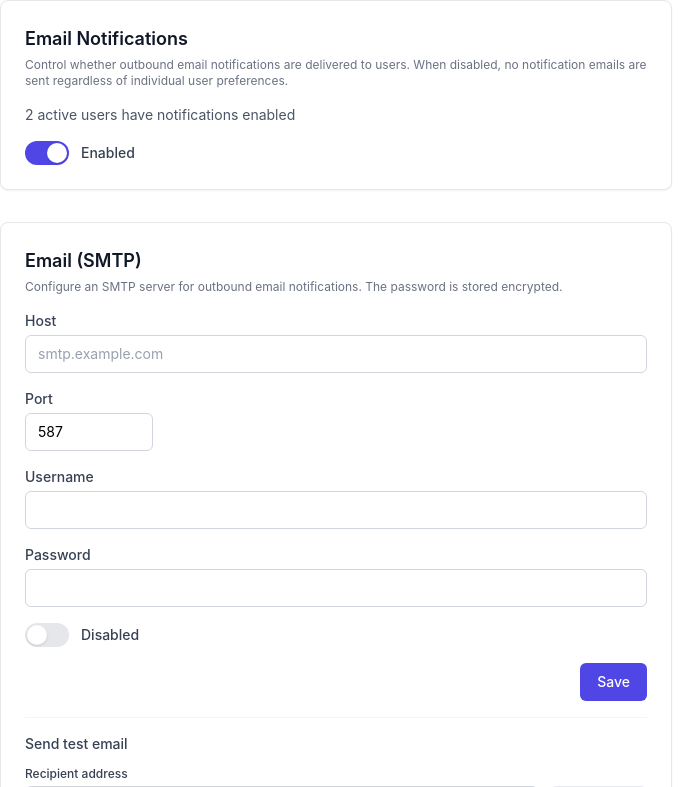
Test case: NotificationSettings — email notifications toggle › shows error when toggling fails
Click the switch with test id "email-notif-toggle" at (47, 153), box [25,141,69,165]
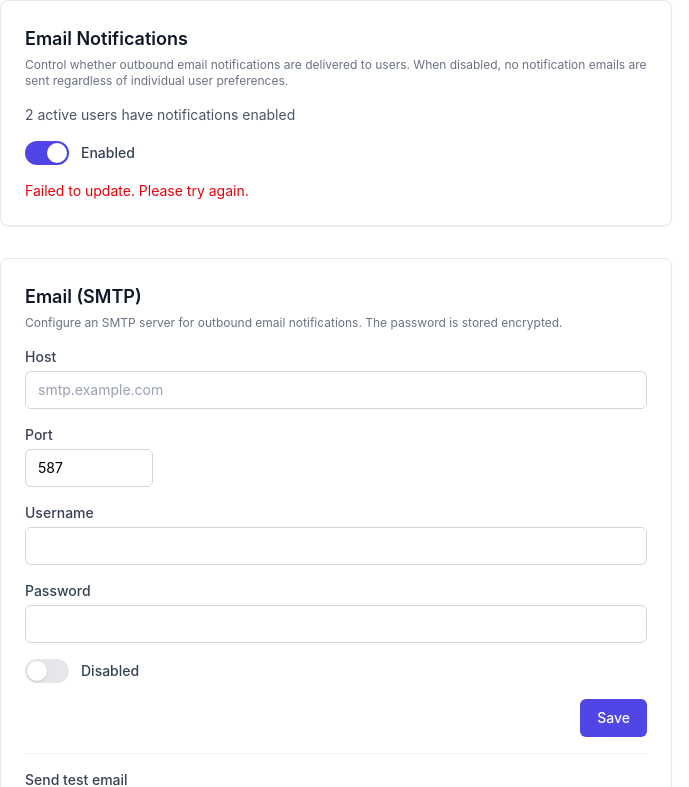
Expected: the message "Failed to update. Please try again." is shown, [25,182,249,199]
